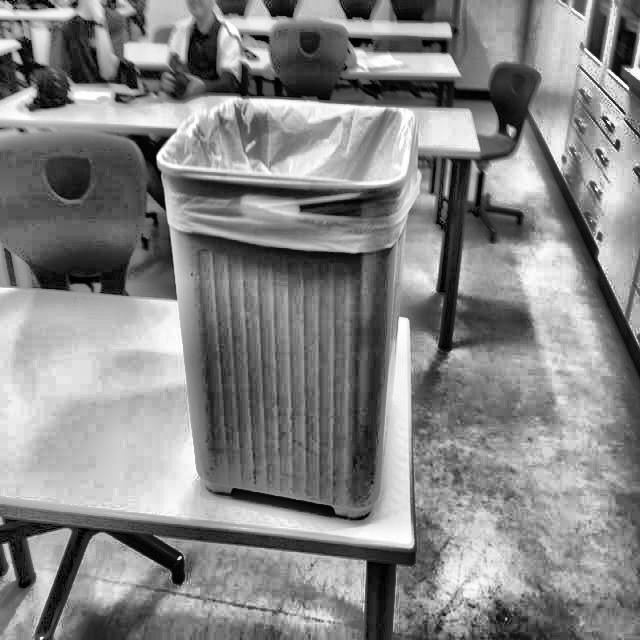Dustbin: (121, 52, 431, 544)
